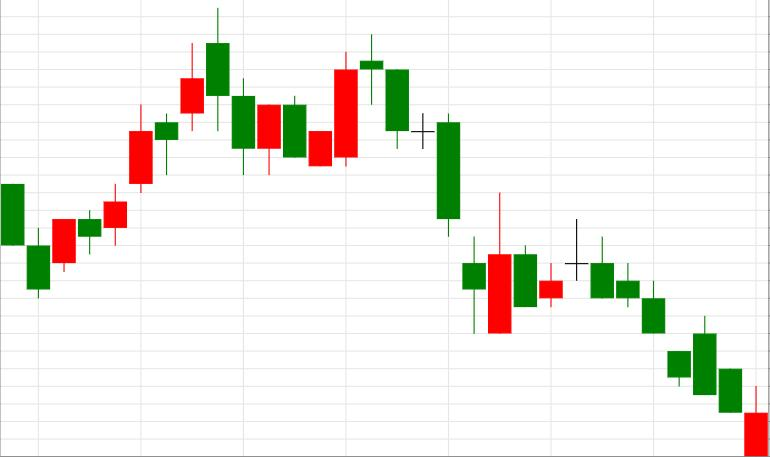bullish_engulfing_rise: (360, 33, 511, 333)
